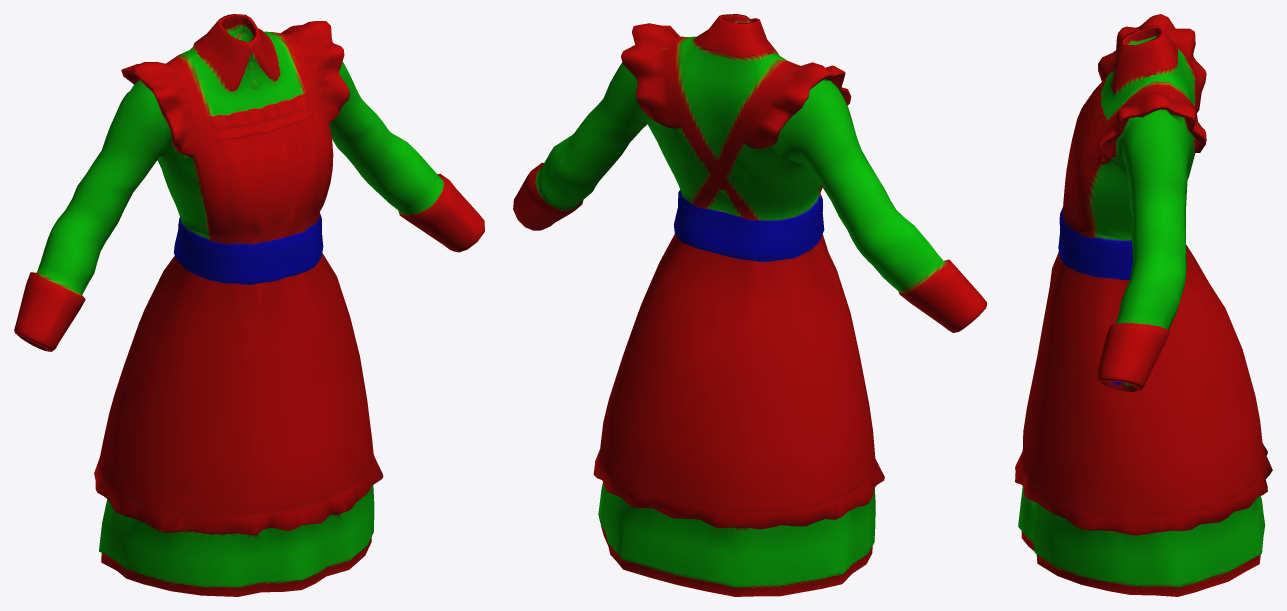
File: Outfit_Overall_Maid.obj
The picture shows the model from 3 angles, left to right: view 1: azimuth 30°, elevation 25°; view 2: azimuth 150°, elevation 25°; view 3: azimuth 270°, elevation 25°; orthographic projection. The views are drawn at different scales.
Visible parts, largest first — view 1: Outfit_Overall_Maid_0; view 2: Outfit_Overall_Maid_0; view 3: Outfit_Overall_Maid_0.
Boxes of the visible parts, x1,y1,x2,y2 form: Outfit_Overall_Maid_0: (14, 14, 484, 596); Outfit_Overall_Maid_0: (513, 14, 986, 596); Outfit_Overall_Maid_0: (1015, 14, 1272, 596).
Bounding box in the file's own units: 0.8833 × 0.9582 × 0.4388.
1 material, 1 textured.
